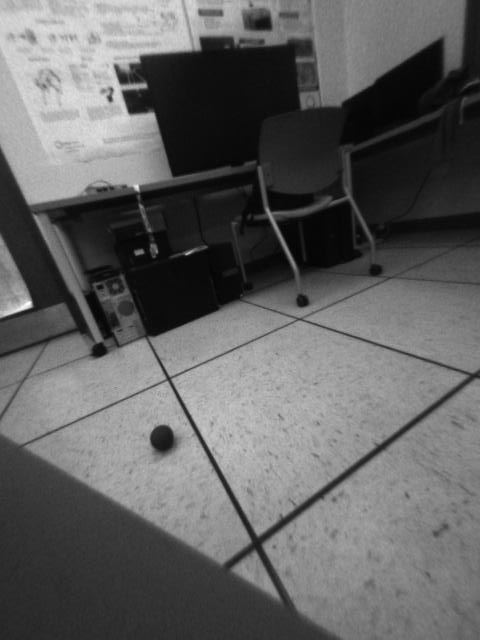dogtoy: (143, 419, 182, 458)
